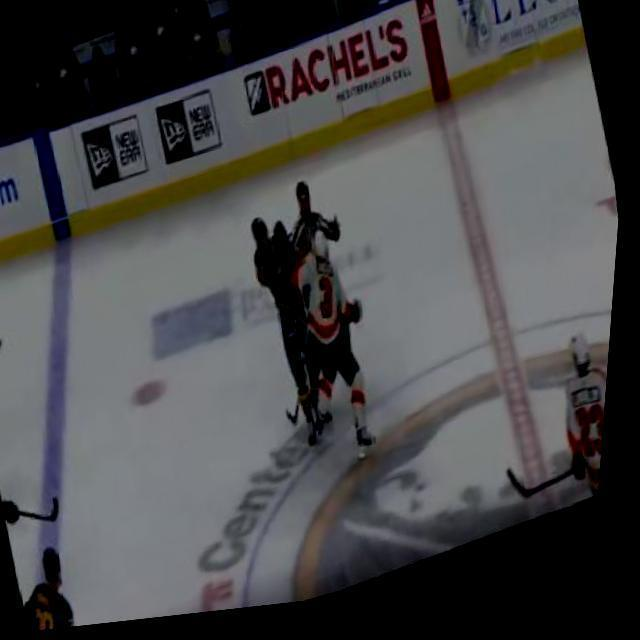fight: (231, 165, 410, 492)
